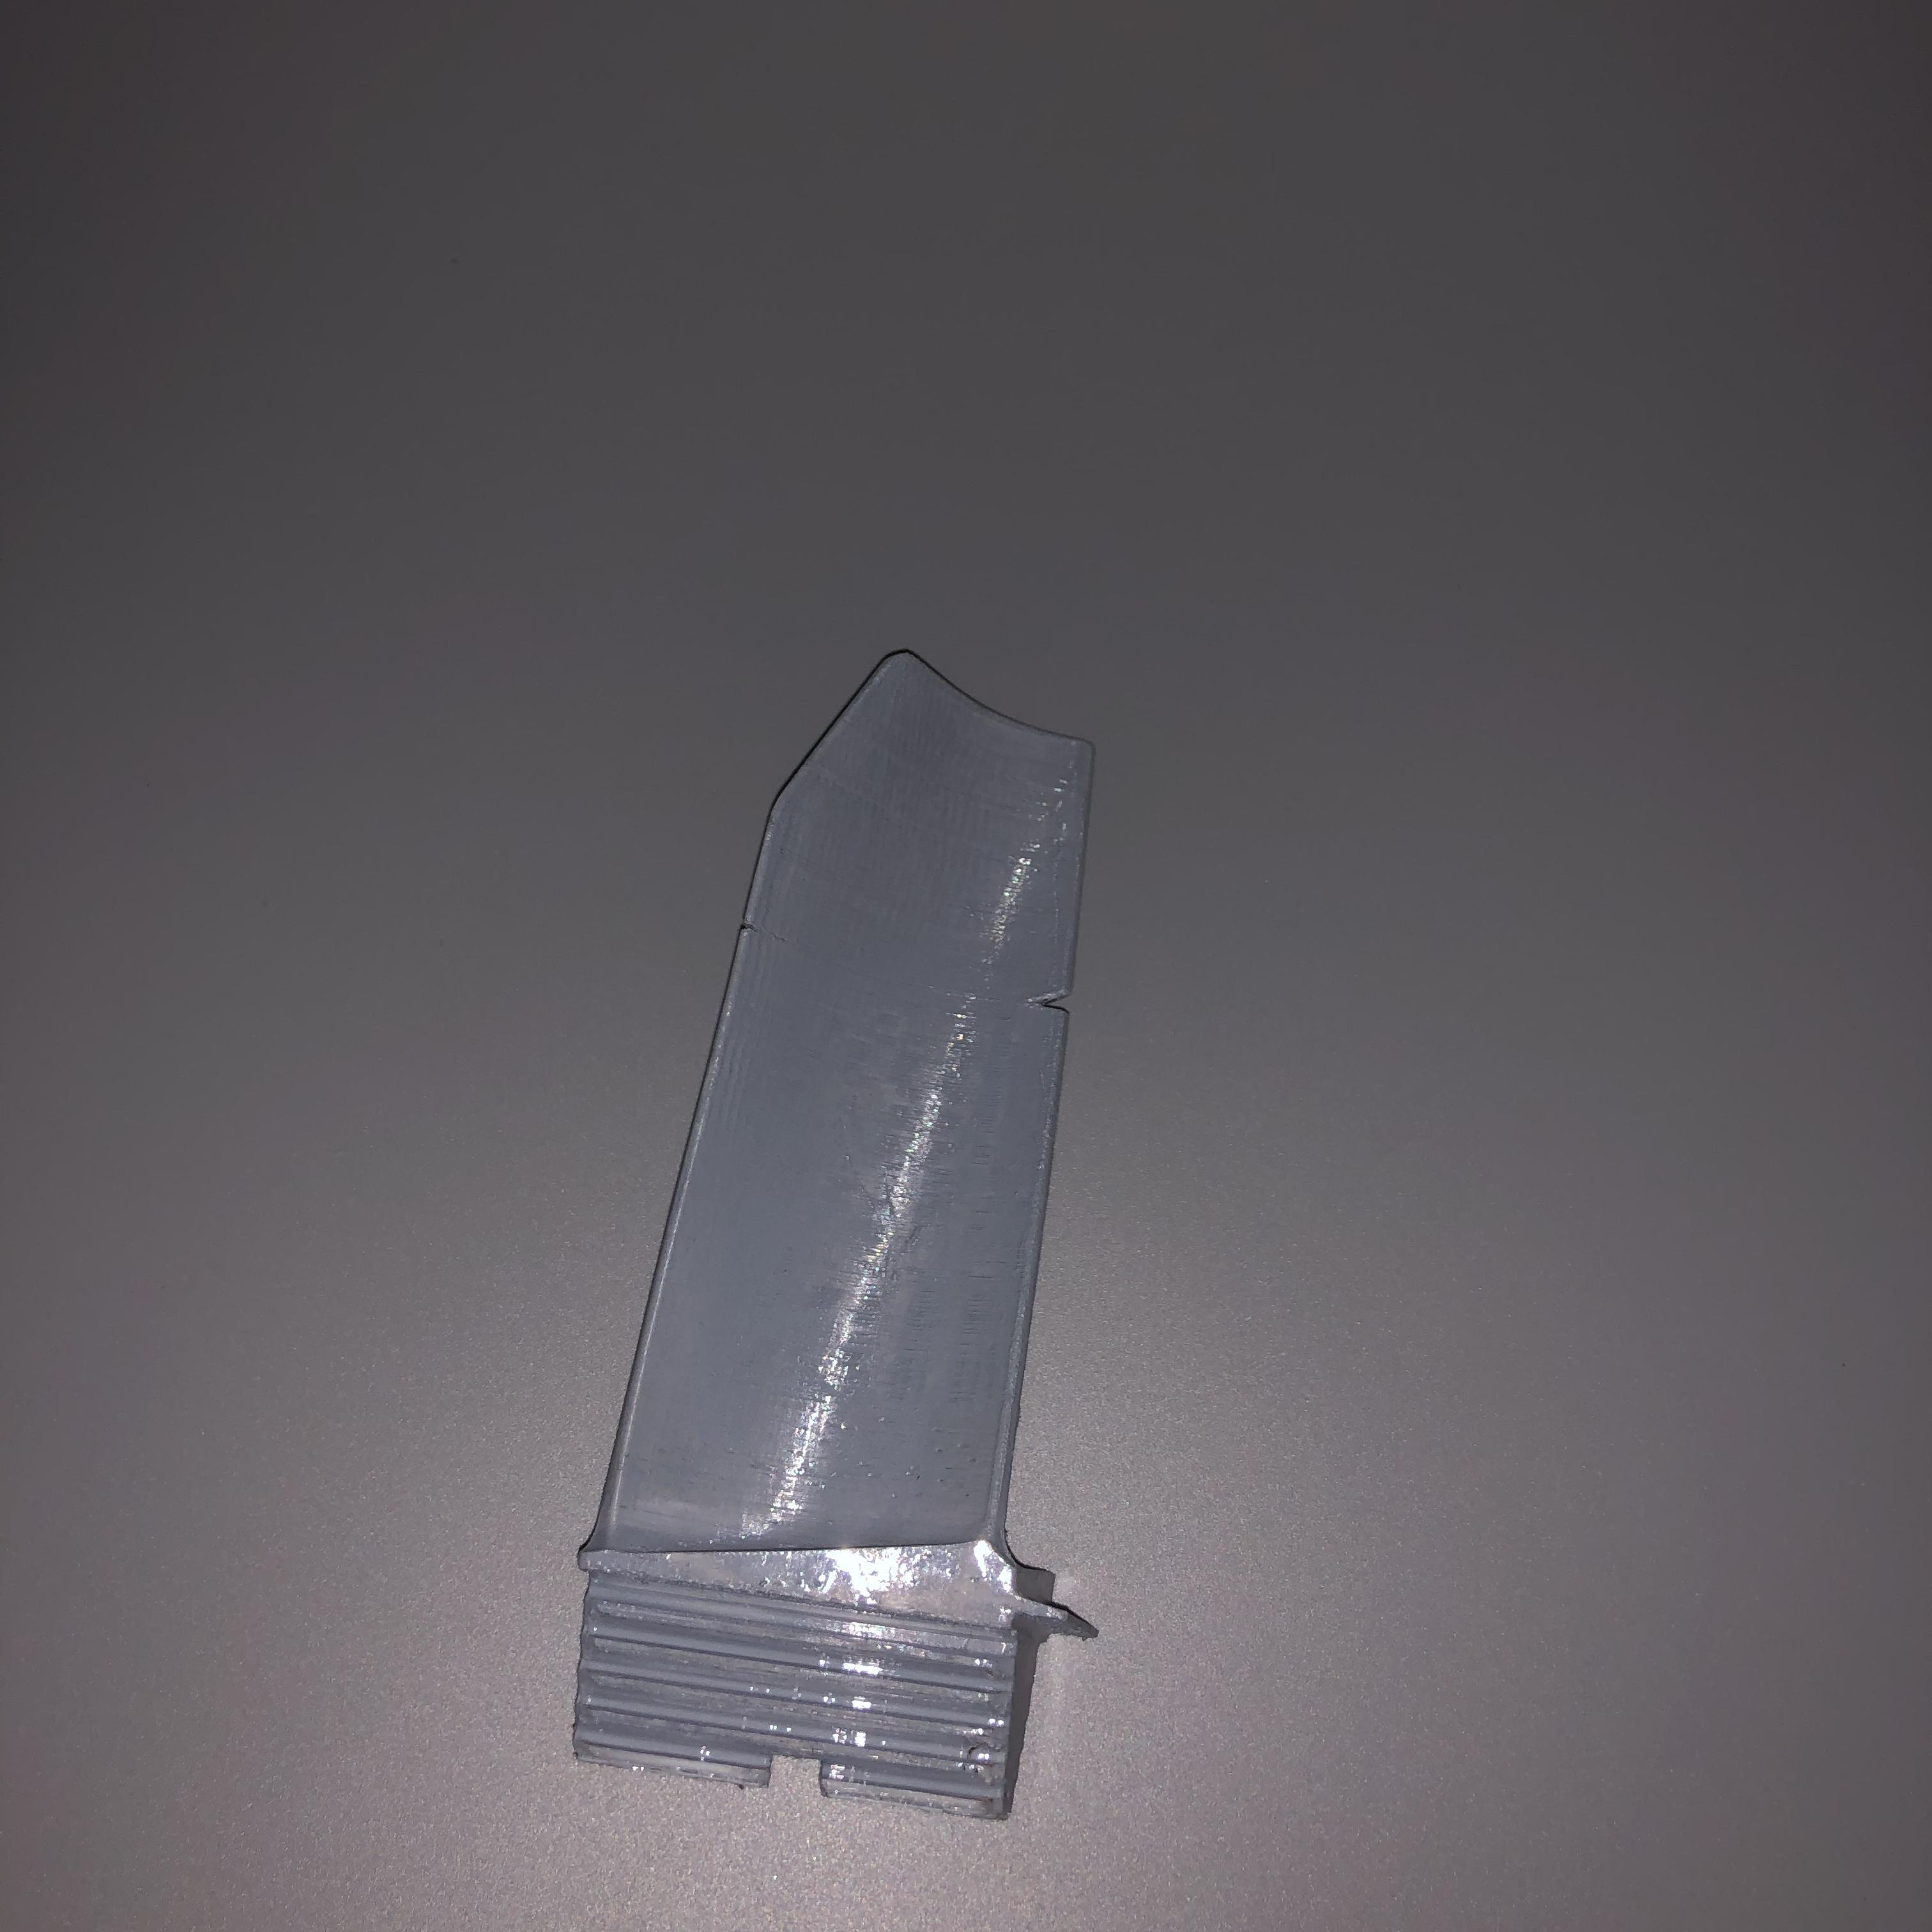groove: (1030, 984, 1072, 1023), (740, 904, 768, 934)
